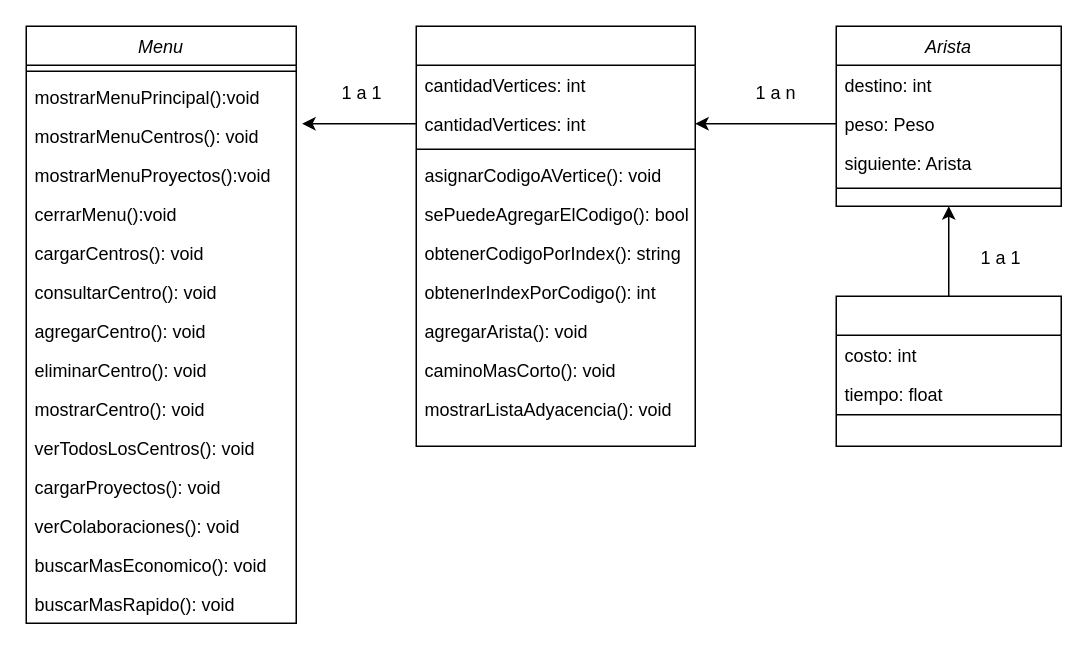
This 1088x654 diagram has some shape labels left out. The box of each missing label's shape, as (x1, y1, x2, y2) in pixels:
DigrafoPonderado: (415, 25, 695, 446)
Peso: (835, 295, 1061, 446)
